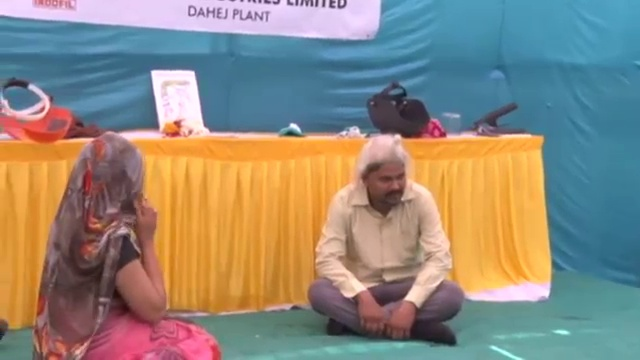helmet_off: (77, 133, 147, 210), (363, 135, 412, 206)
person: (28, 130, 220, 360), (305, 133, 465, 349)
